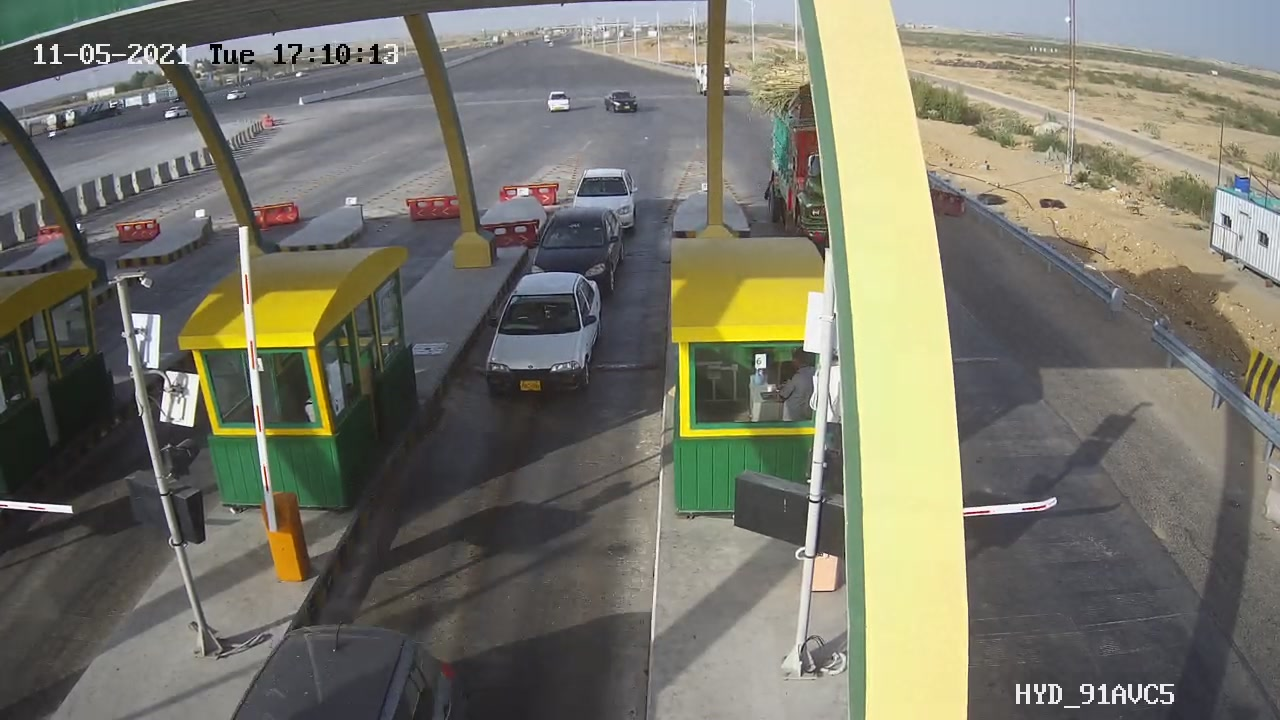F1: (469, 261, 621, 413), (513, 198, 640, 308)
